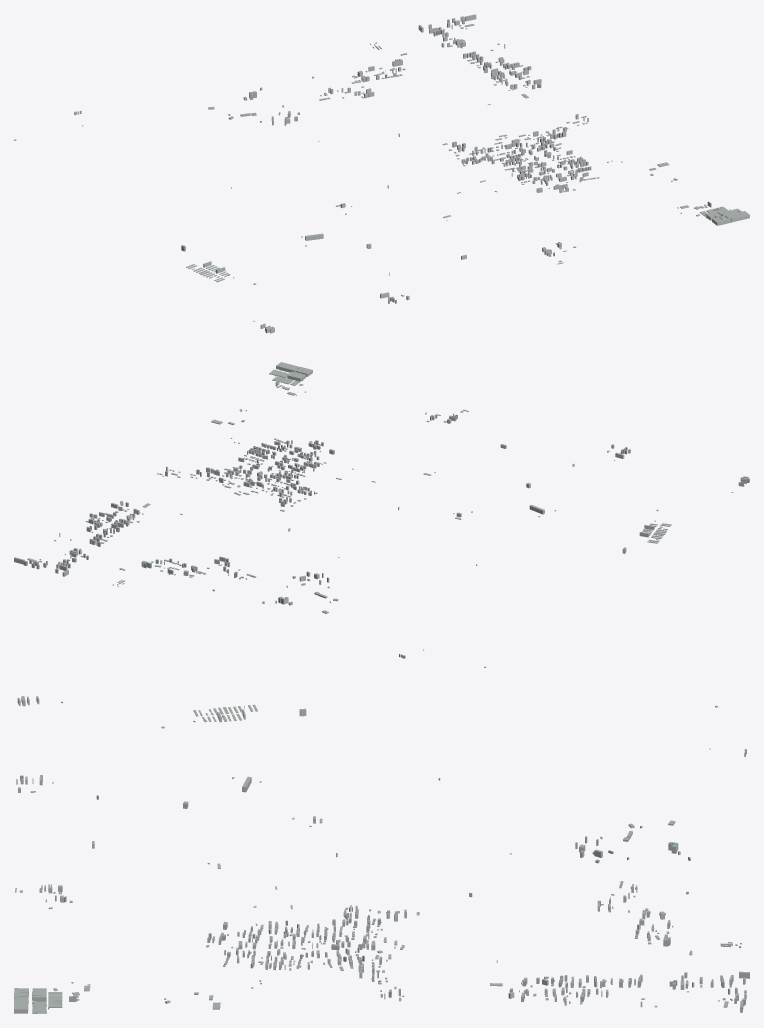
File: far.glb
3 renders of one model, top to bottom at view 1: azimuth 30°, elevation 25°; view 2: azimuth 150°, elevation 25°; view 3: azimuth 270°, elevation 25°, orthographic. The views are drawn at different scales.
Bounding box in the file's own units: 2125 × 21.6 × 2113.
